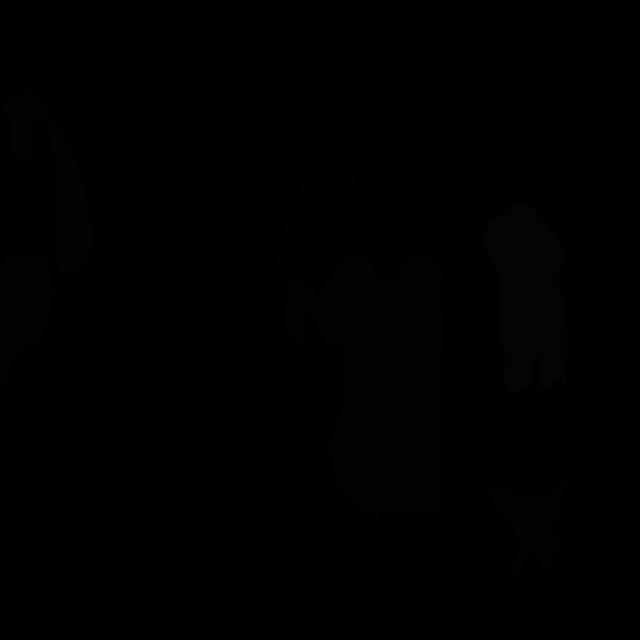cardboard: (282, 250, 444, 521), (488, 479, 567, 576), (0, 252, 54, 391)
metal: (2, 86, 92, 276)
rigid_plastic: (269, 146, 408, 320)
soft_plastic: (484, 204, 567, 395)
